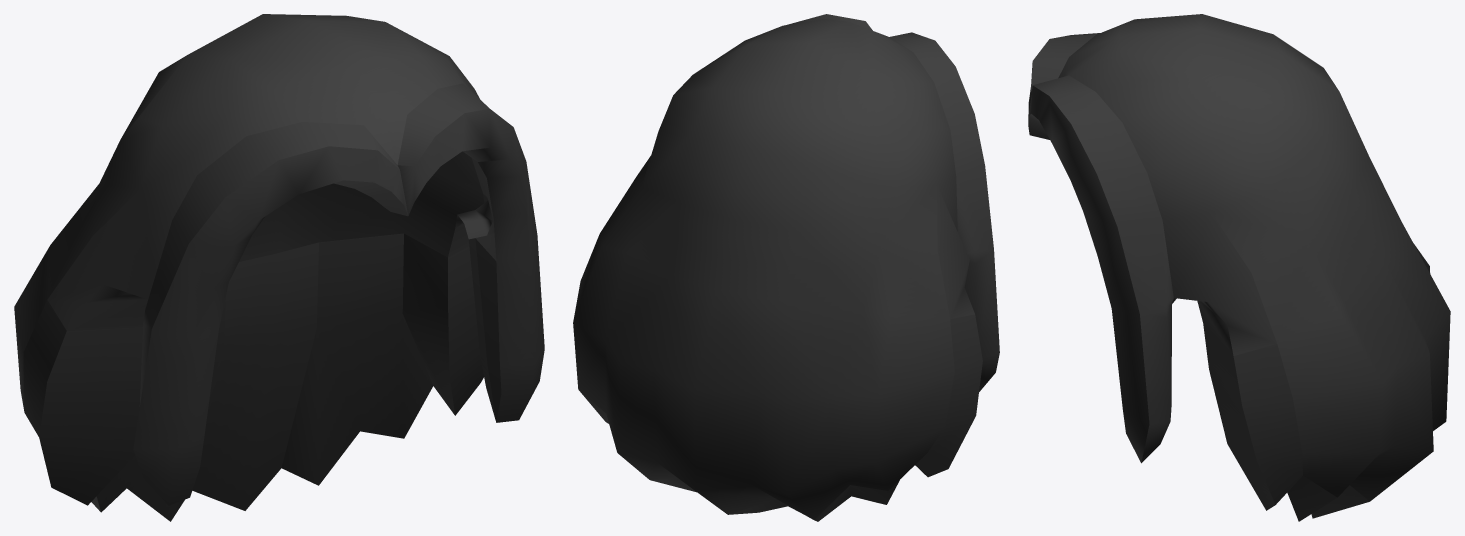
The model's file is Hair_Black_10.fbx.
The picture shows the model from 3 angles, left to right: view 1: azimuth 30°, elevation 25°; view 2: azimuth 150°, elevation 25°; view 3: azimuth 270°, elevation 25°; orthographic projection. The views are drawn at different scales.
Parts seen in each view (by area): view 1: Hair_Black_10; view 2: Hair_Black_10; view 3: Hair_Black_10.
Boxes of the visible parts, bbox=[...] form: Hair_Black_10: bbox=[14, 14, 544, 521]; Hair_Black_10: bbox=[573, 14, 999, 521]; Hair_Black_10: bbox=[1028, 14, 1450, 521].
Bounding box in the file's own units: 74.41 × 80.17 × 66.04.
